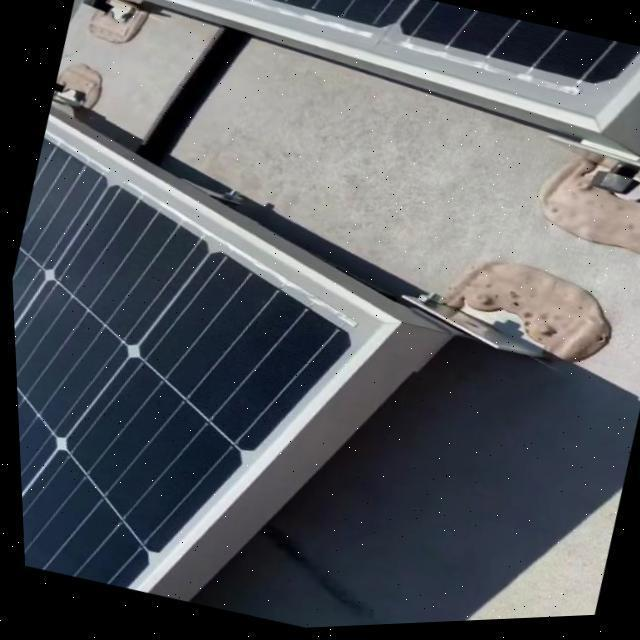Normal Solar Panel: (4, 99, 440, 640), (71, 0, 640, 168)
